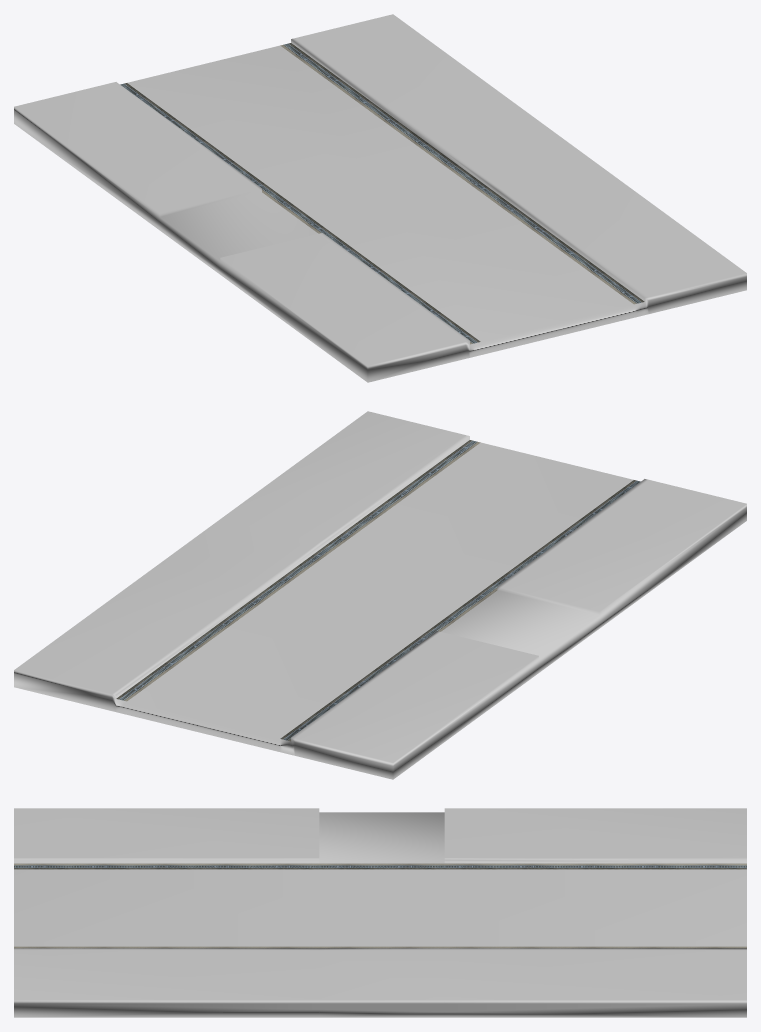
Rendered from road_exit.fbx.
The picture shows the model from 3 angles, top to bottom: view 1: azimuth 30°, elevation 25°; view 2: azimuth 150°, elevation 25°; view 3: azimuth 270°, elevation 25°; orthographic projection. The views are drawn at different scales.
Parts seen in each view (by area): view 1: Mesh; view 2: Mesh; view 3: Mesh.
Boxes of the visible parts, bbox=[...] form: Mesh: bbox=[14, 14, 746, 382]; Mesh: bbox=[14, 411, 746, 779]; Mesh: bbox=[14, 808, 746, 1017].
Size of the model in its own units: 1485 by 64 by 2400.
